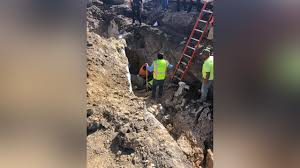vest: (152, 60, 167, 80)
